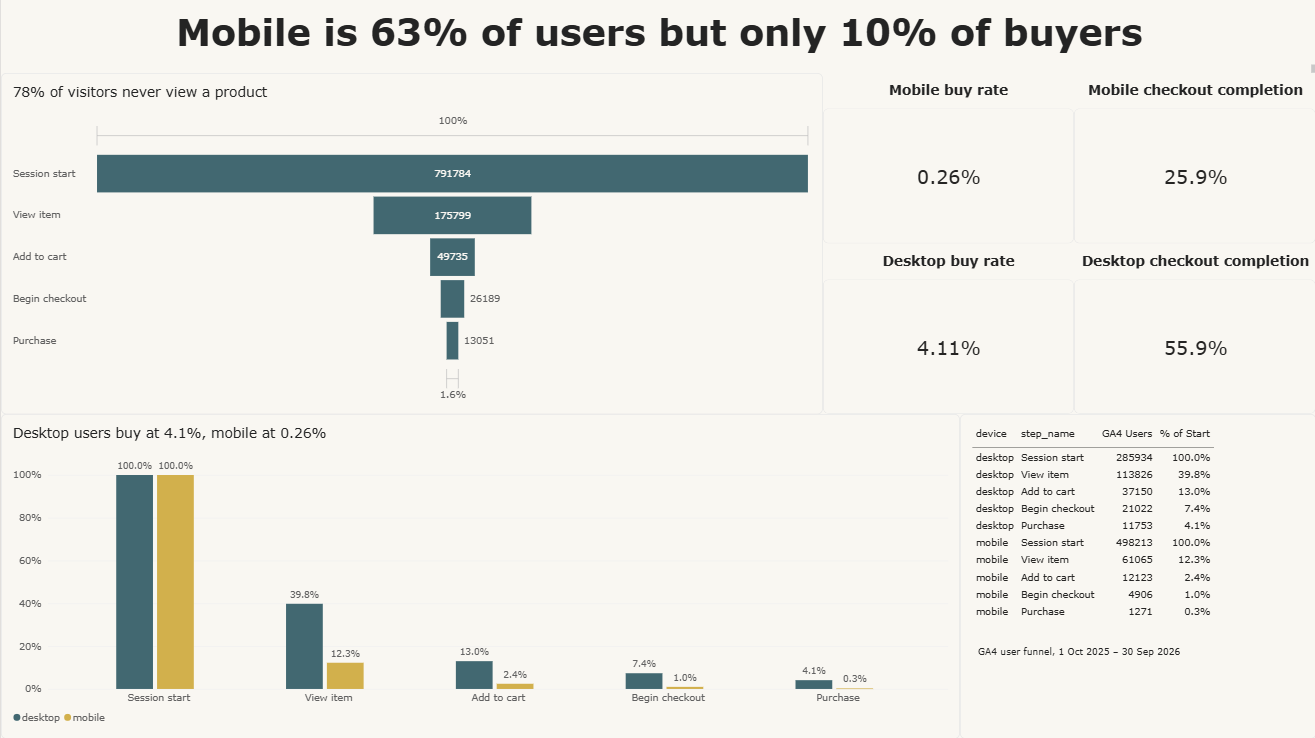

Layout of this report page (visuals, bound fields, positions):
{"tool":"powerbi","page":{"name":"Funnel","canvas":[1920,1080],"ordinal":2},"visuals":[{"type":"textbox","title":"Mobile is 63% of users but only 10% of buyers","box":[0,14.3,1920.7,93.1],"z":0},{"type":"funnel","title":"78% of visitors never view a product","fields":{"Category":["public funnel_ga4.step_name"],"Y":["public funnel_ga4.GA4 Users"]},"box":[0,108,1199.3,497.5],"z":1},{"type":"clusteredColumnChart","title":"Desktop users buy at 4.1%, mobile at 0.26%","fields":{"Category":["public funnel_ga4.step_name"],"Series":["public funnel_ga4.device"],"Y":["public funnel_ga4.% of Start"]},"box":[0,605.5,1399.1,474.2],"z":2},{"type":"tableEx","fields":{"Values":["public funnel_ga4.device","public funnel_ga4.step_name","public funnel_ga4.GA4 Users","public funnel_ga4.% of Start"]},"box":[1399.1,605.5,520.9,474.2],"z":3},{"type":"cardVisual","title":"Mobile buy rate","fields":{"Data":["public funnel_ga4.% of Start"]},"box":[1199.3,119.6,366.2,237.8],"z":4},{"type":"cardVisual","title":"Desktop buy rate","fields":{"Data":["public funnel_ga4.% of Start"]},"box":[1199.3,369.1,366.2,236.4],"z":5},{"type":"textbox","title":"GA4 user funnel, 1 Oct 2025 – 30 Sep 2026","box":[1425.4,944,351.6,121.1],"z":6},{"type":"cardVisual","title":"Mobile checkout completion","fields":{"Data":["public funnel_ga4.Mobile Checkout Completion"]},"box":[1565.5,119.6,354.5,237.8],"z":7},{"type":"cardVisual","title":"Desktop checkout completion","fields":{"Data":["public funnel_ga4.Desktop Checkout Completion"]},"box":[1565.5,369.1,354.5,236.4],"z":8}]}

Visuals, with their boxes in screenshot pixels (x1, y1, x2, y2), scaled from the page's 1920x1080 canvas onto the 1315x738 screenshot:
"Mobile is 63% of users but only 10% of buyers" textbox: region(0, 10, 1314, 73)
"78% of visitors never view a product" funnel: region(0, 74, 821, 414)
"Desktop users buy at 4.1%, mobile at 0.26%" clusteredColumnChart: region(0, 414, 958, 737)
tableEx - public funnel_ga4.device x public funnel_ga4.step_name: region(958, 414, 1314, 737)
"Mobile buy rate" cardVisual: region(821, 82, 1072, 244)
"Desktop buy rate" cardVisual: region(821, 252, 1072, 414)
"GA4 user funnel, 1 Oct 2025 – 30 Sep 2026" textbox: region(976, 645, 1217, 728)
"Mobile checkout completion" cardVisual: region(1072, 82, 1314, 244)
"Desktop checkout completion" cardVisual: region(1072, 252, 1314, 414)
